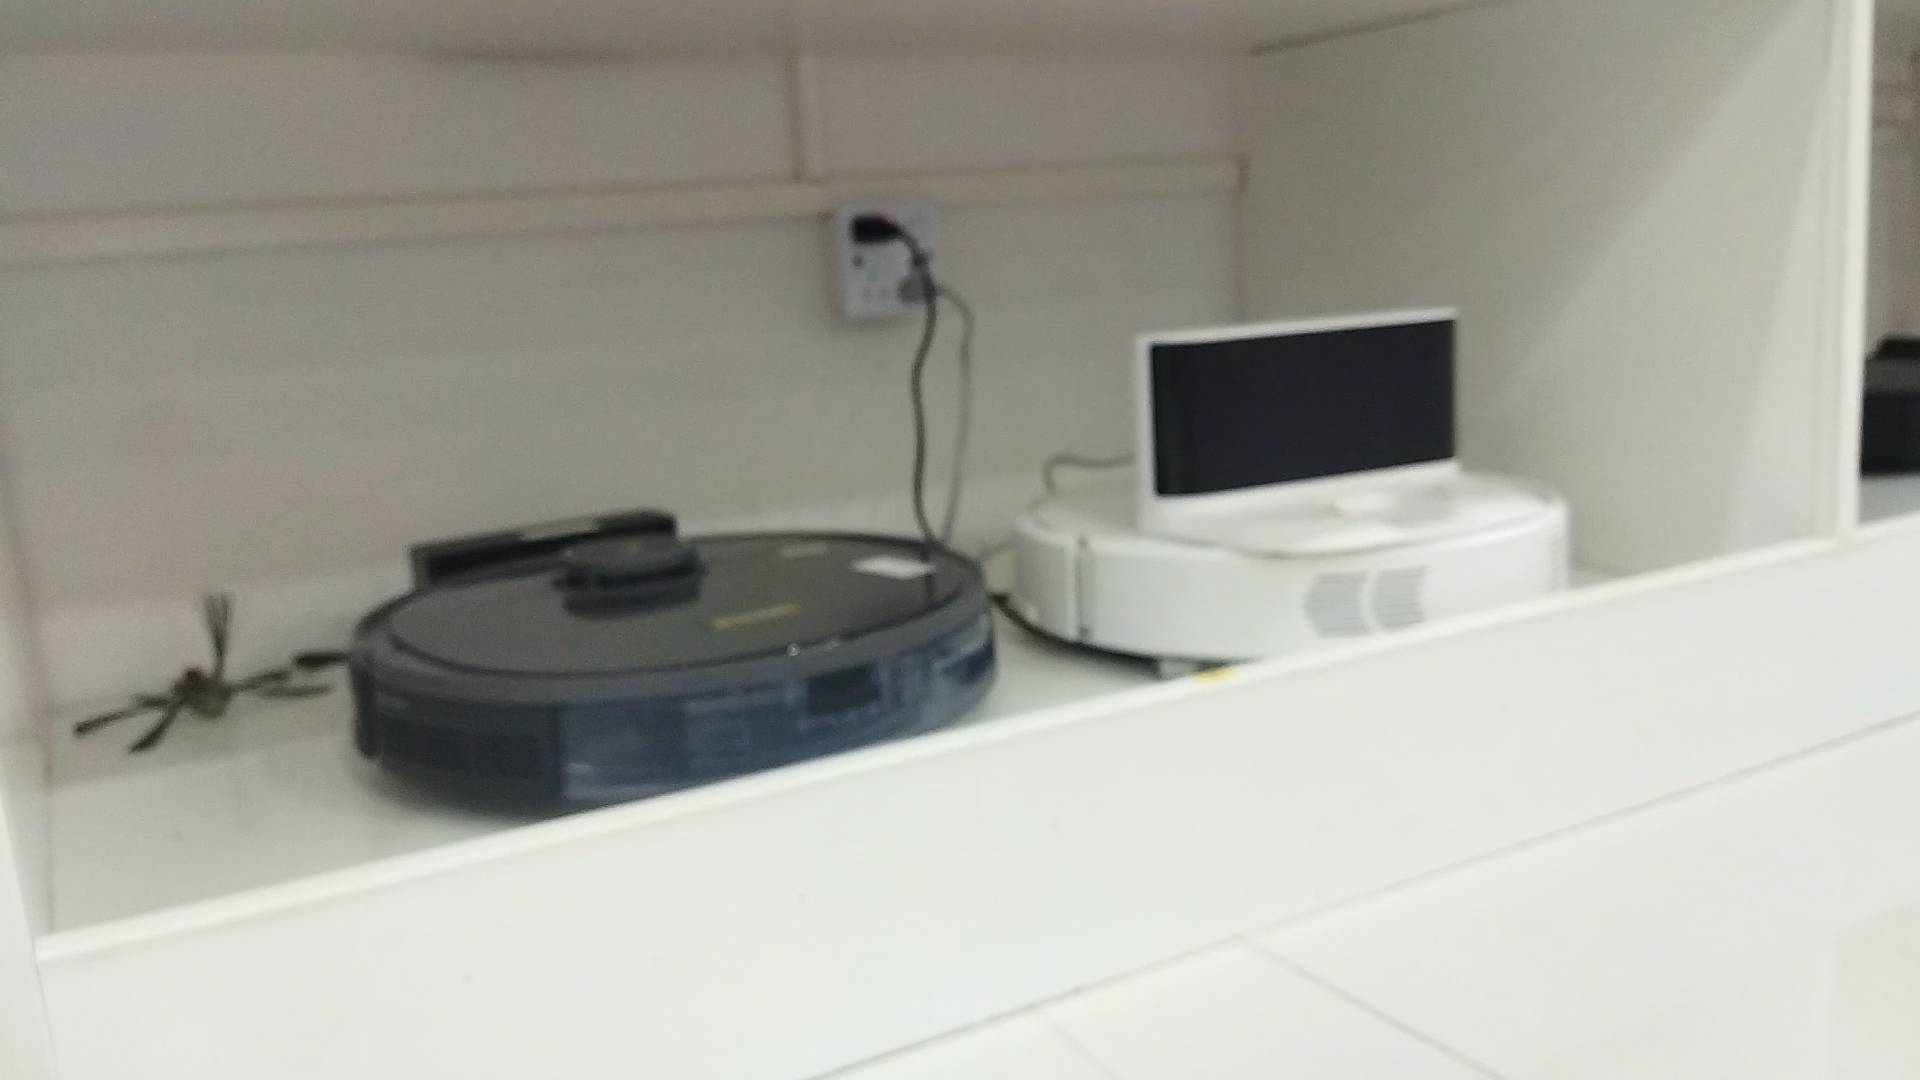recharge seat: (1131, 305, 1542, 556)
